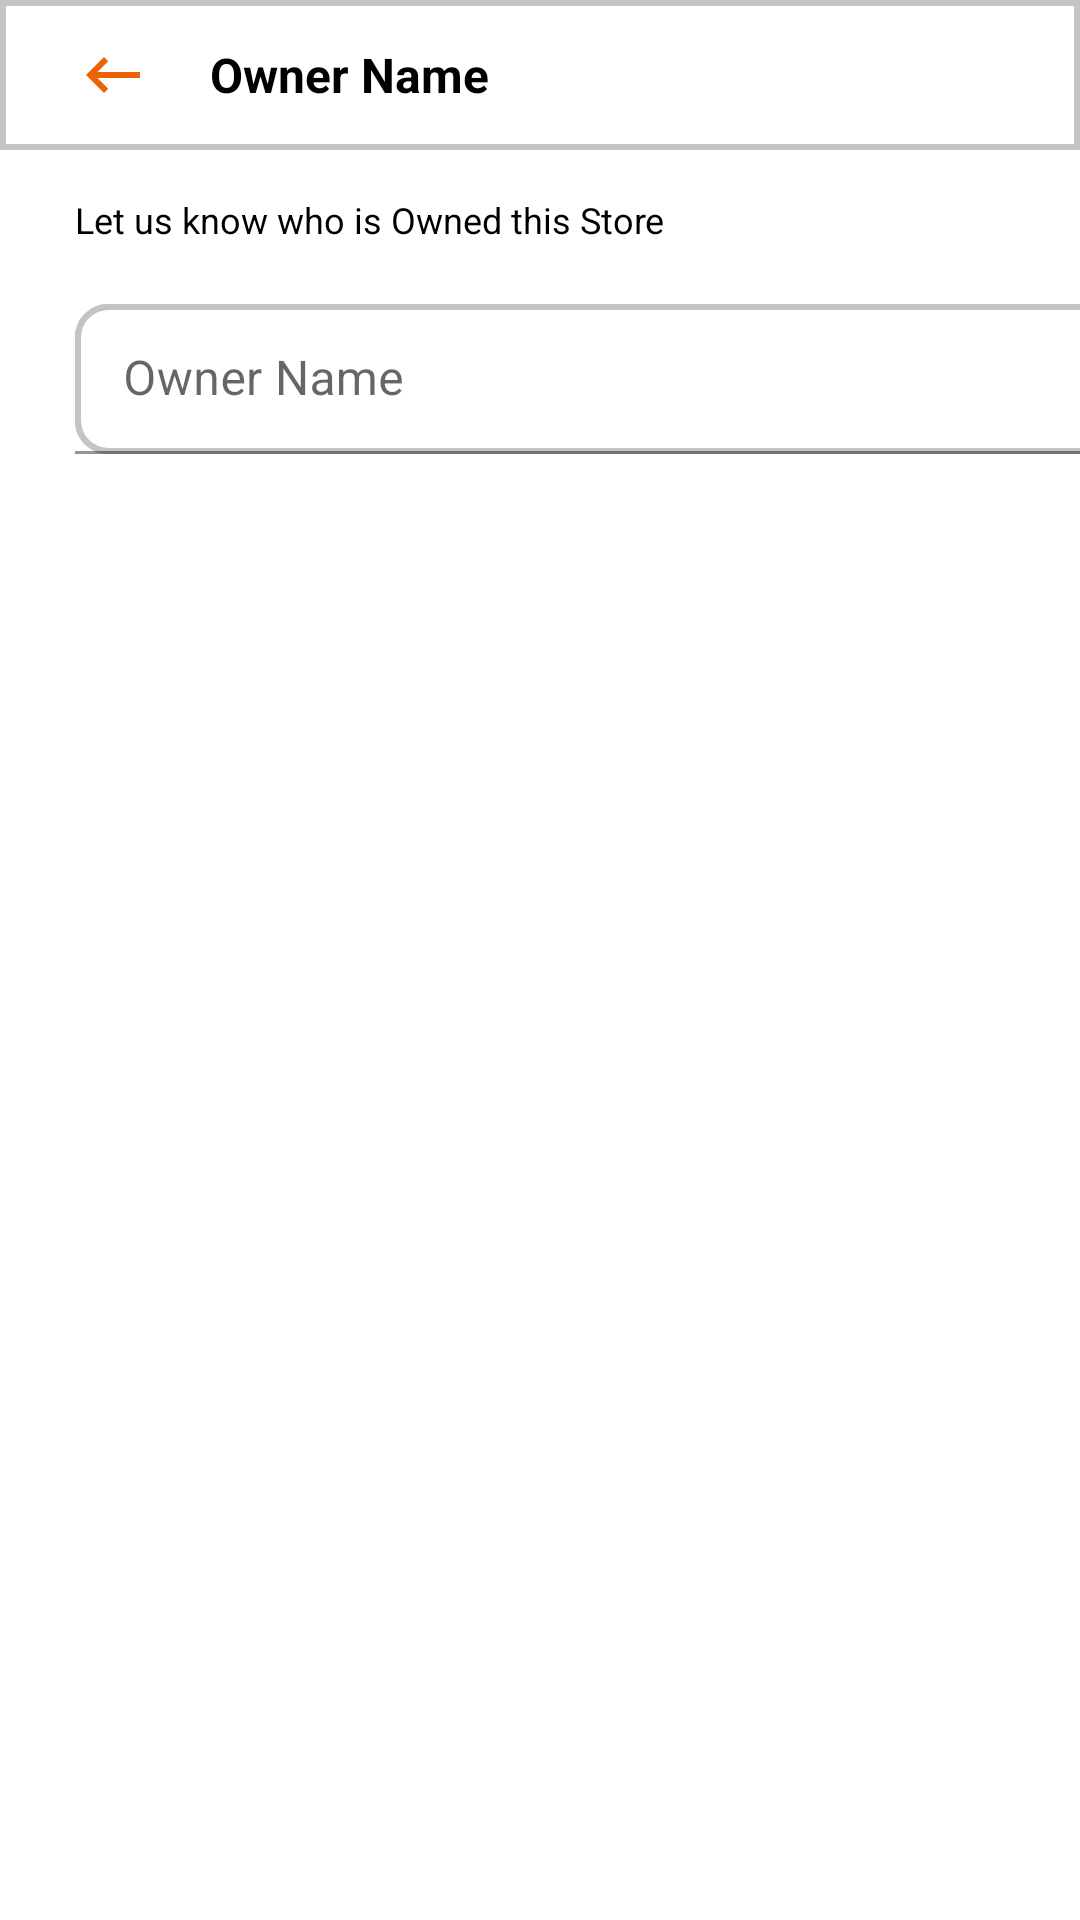

Named icons in this screenshot (1080 × 1920) and their centers, point (x, y):
backarrow: point (113, 75)
